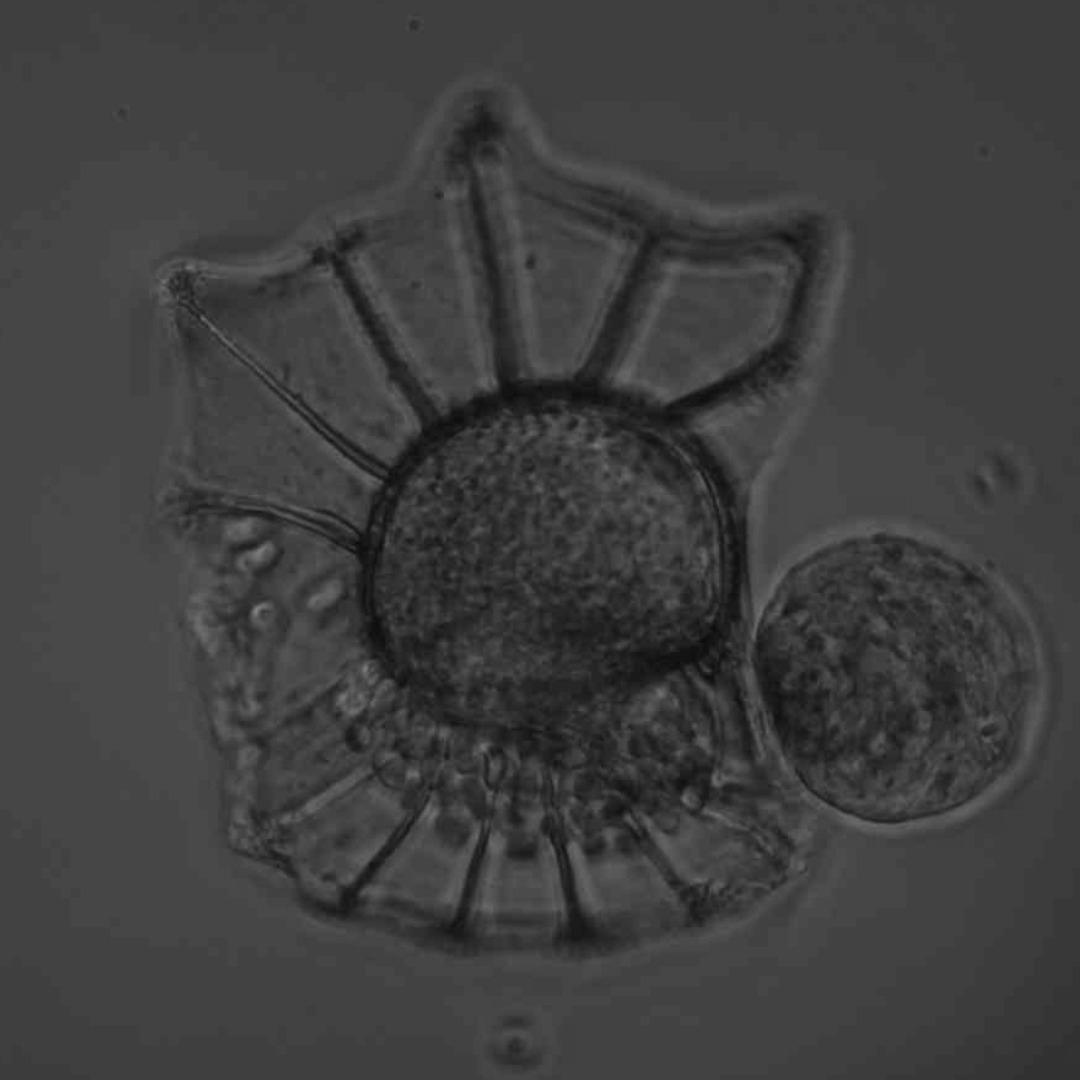ornithocercus_thumii: (159, 88, 844, 960)
